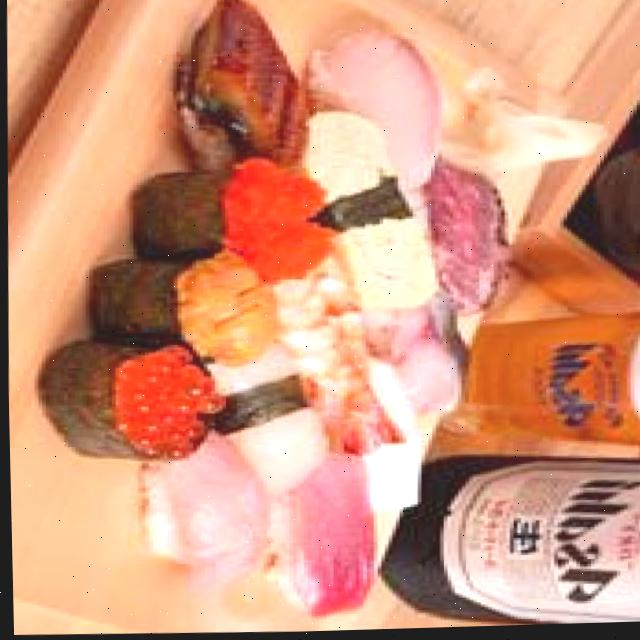寿司卷物: (31, 0, 513, 639)
